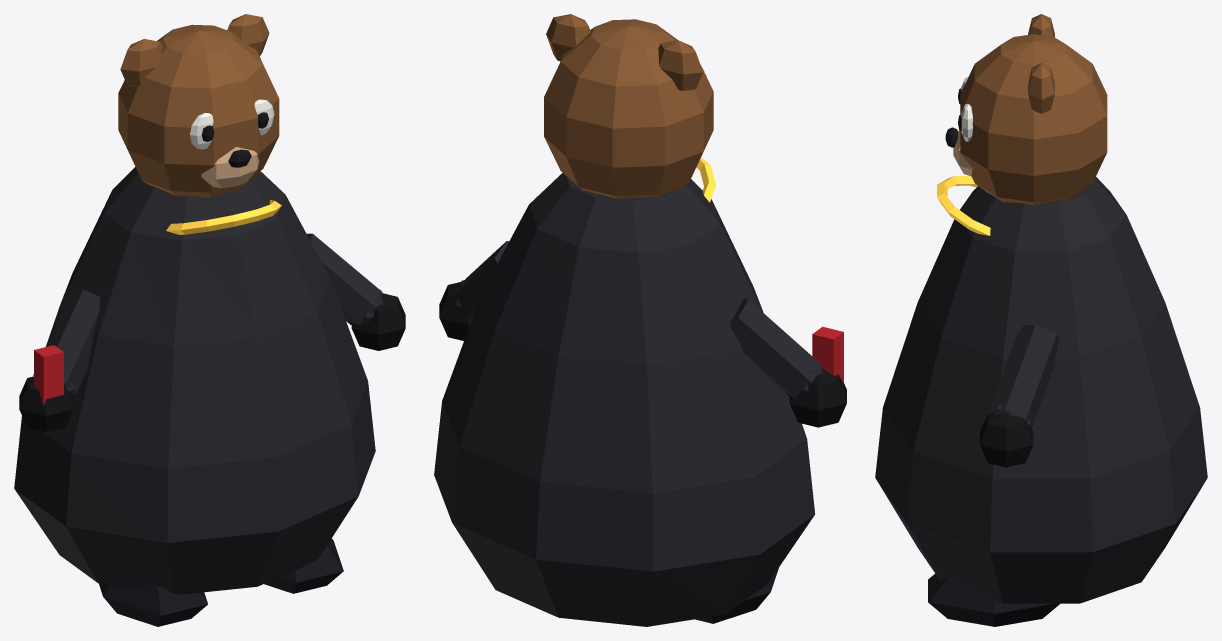
The model's file is npc_ladron_oso.glb.
The picture shows the model from 3 angles, left to right: view 1: azimuth 30°, elevation 25°; view 2: azimuth 150°, elevation 25°; view 3: azimuth 270°, elevation 25°; orthographic projection. The views are drawn at different scales.
Parts seen in each view (by area): view 1: body_robber_black, head_mask_bear, arms_robber_black, legs_black, arms_glove_black (×2), props_phone_red, body_gold, face_mask_bear_muzzle, face_white, face_black; view 2: body_robber_black, head_mask_bear, arms_robber_black, arms_glove_black (×2), props_phone_red, legs_black; view 3: body_robber_black, head_mask_bear, arms_robber_black, legs_black, arms_glove_black, body_gold.
Part boxes in pixels (x1,y1,x2,y2): body_robber_black: [14, 167, 375, 594]; head_mask_bear: [118, 14, 279, 197]; arms_robber_black: [33, 233, 383, 397]; legs_black: [99, 538, 343, 626]; arms_glove_black (×2): [19, 293, 405, 431]; props_phone_red: [34, 345, 63, 406]; body_gold: [166, 199, 281, 234]; face_mask_bear_muzzle: [201, 147, 259, 188]; face_white: [190, 99, 274, 149]; face_black: [201, 112, 268, 167]; body_robber_black: [434, 173, 814, 626]; head_mask_bear: [544, 14, 713, 198]; arms_robber_black: [454, 241, 822, 398]; arms_glove_black (×2): [439, 282, 846, 427]; props_phone_red: [812, 326, 843, 383]; legs_black: [695, 568, 778, 623]; body_robber_black: [875, 177, 1207, 603]; head_mask_bear: [960, 14, 1107, 205]; arms_robber_black: [989, 325, 1059, 428]; legs_black: [928, 573, 1059, 626]; arms_glove_black: [980, 412, 1033, 467]; body_gold: [937, 176, 990, 235].
Bounding box in the file's own units: 1.14 × 1.56 × 0.86.
